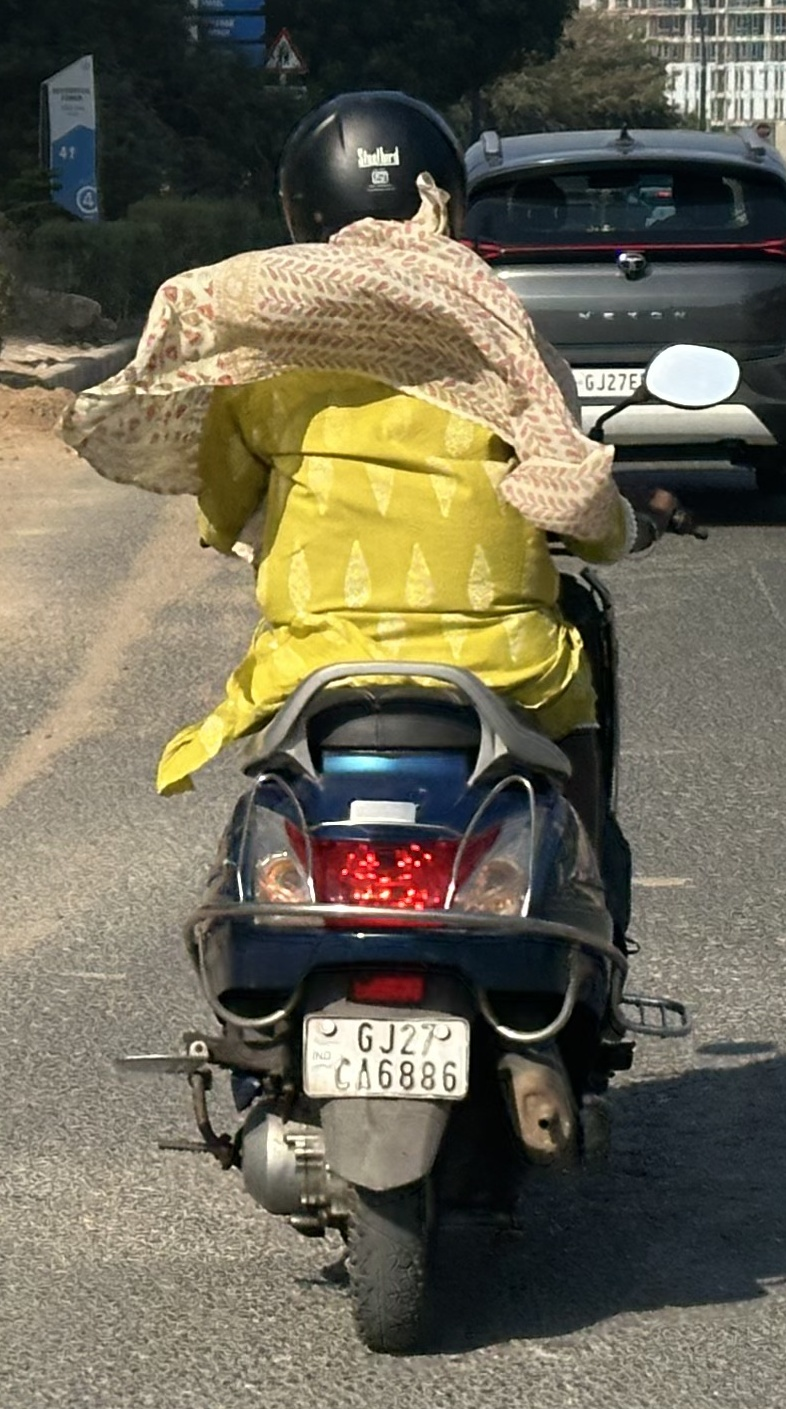BikeWithRider: (49, 58, 731, 1351)
Helmet: (269, 76, 483, 284)
